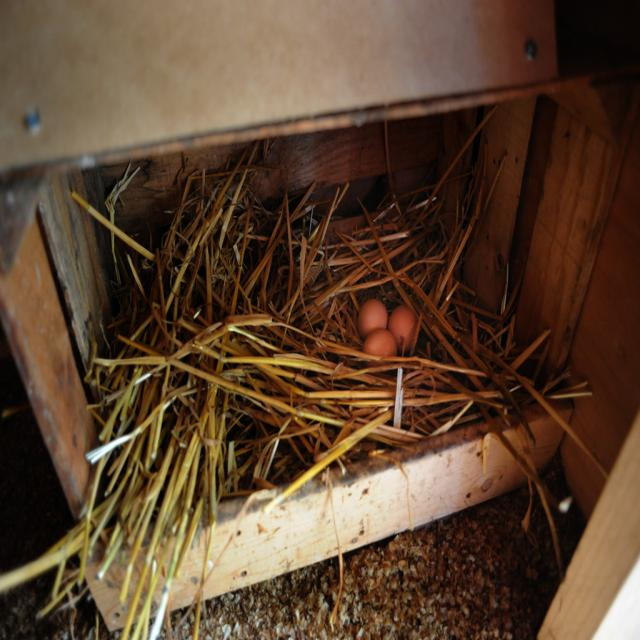Egg: (356, 296, 420, 358)
